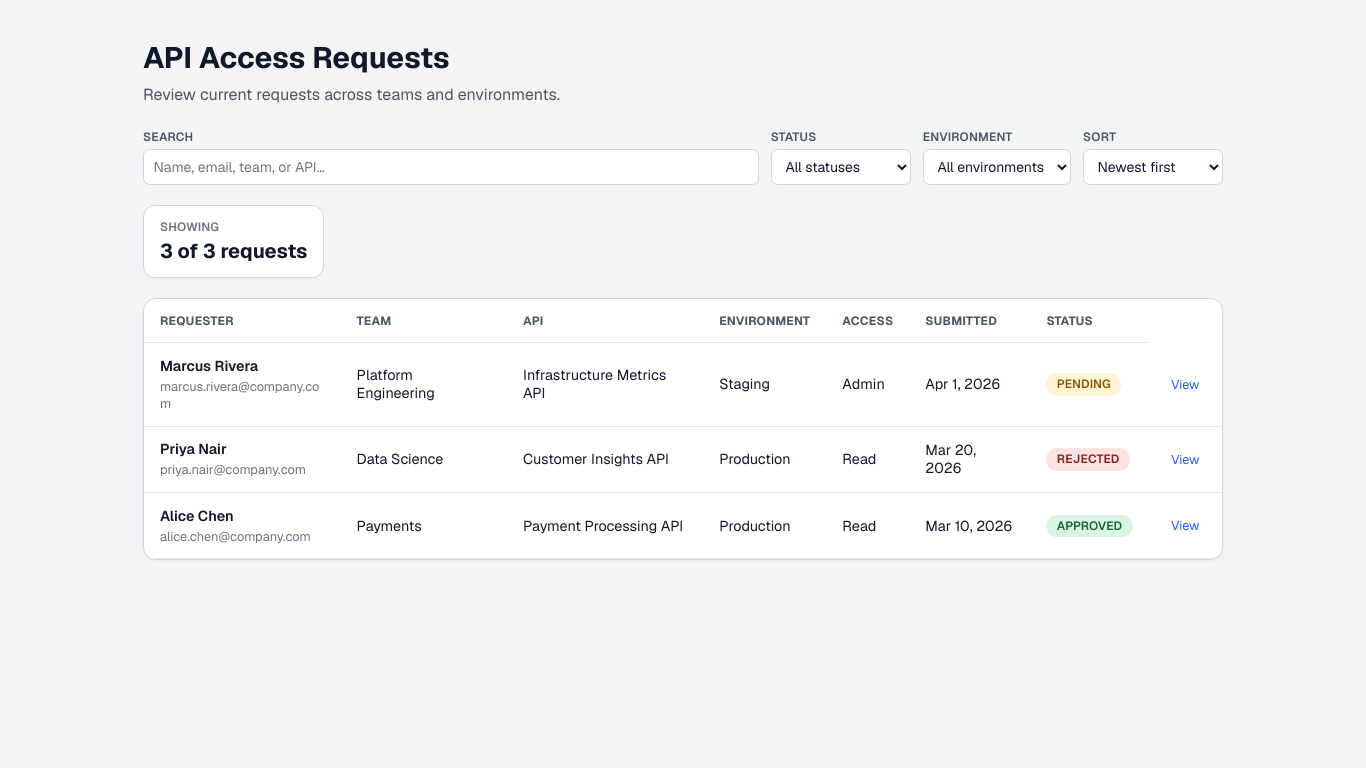
Scenario: RequestsDashboard decision workflow › approves a pending request and shows updated status/feedback
The image size is (1366, 768).
Click the button with aria-label "view details for marcus rivera" at (1185,384), box 1165,373 -> 1206,396
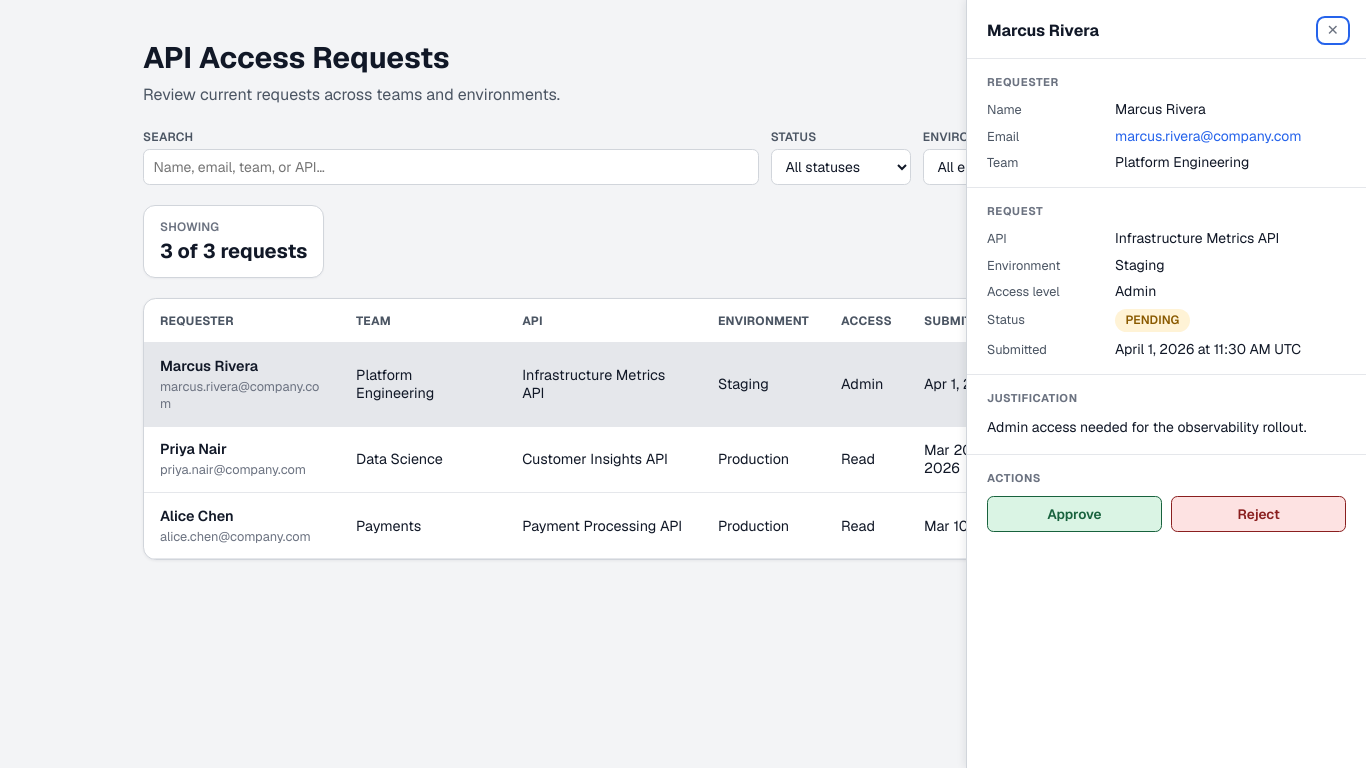
Click the button "Approve" at (1074,514), box 987,496 -> 1162,532
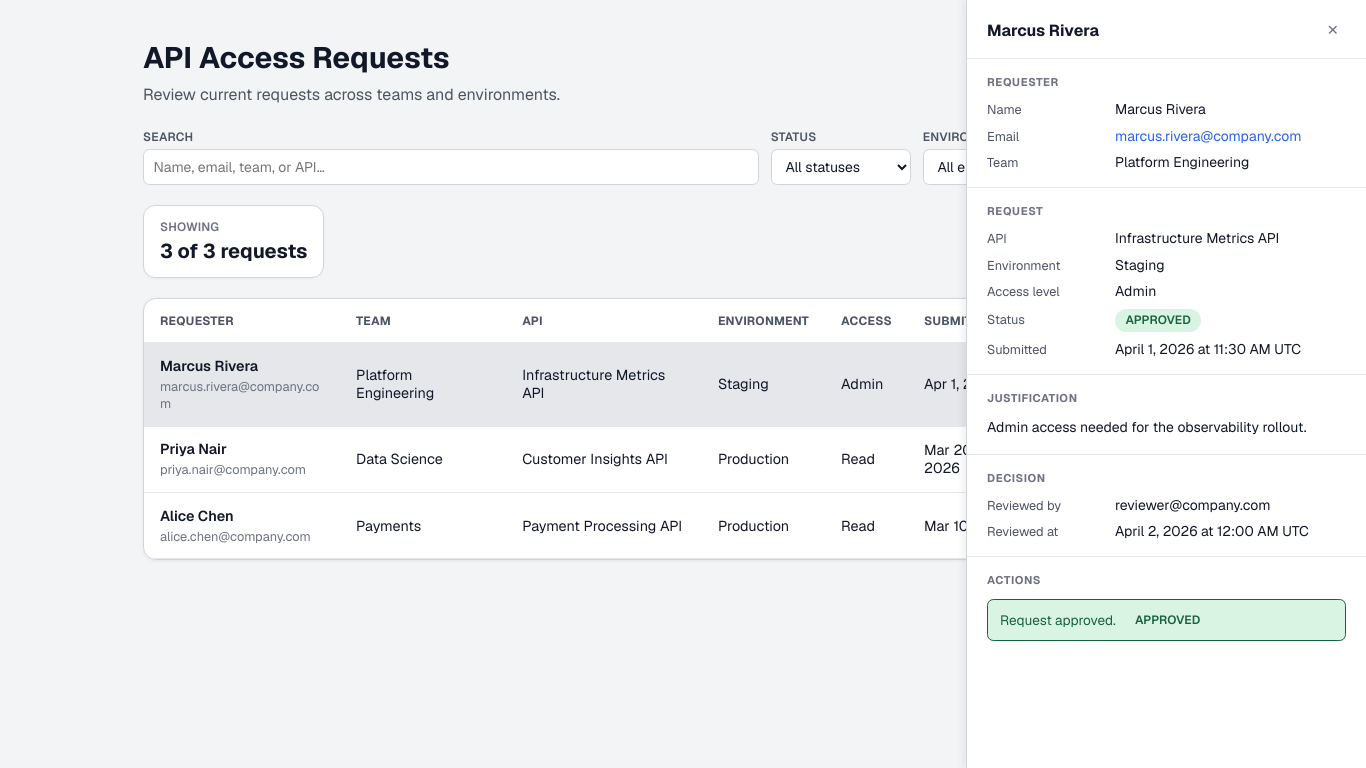
Expected: the text "Approved" next to "Apr 1, 2026" is shown, 1055,376 -> 1121,392
Expected: the text "Request approved." is shown, 1000,611 -> 1116,629
Expected: the text "Reviewed by" is shown, 987,496 -> 1061,514
